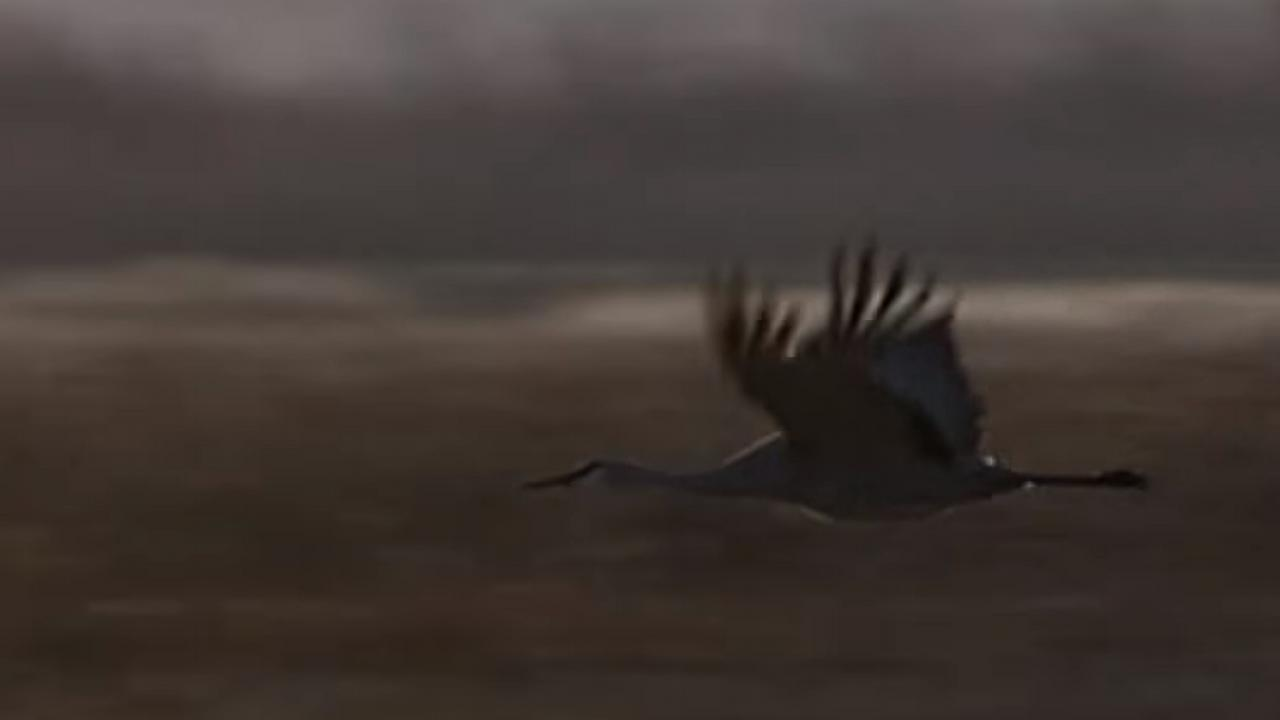Bird: (505, 230, 1164, 536)
